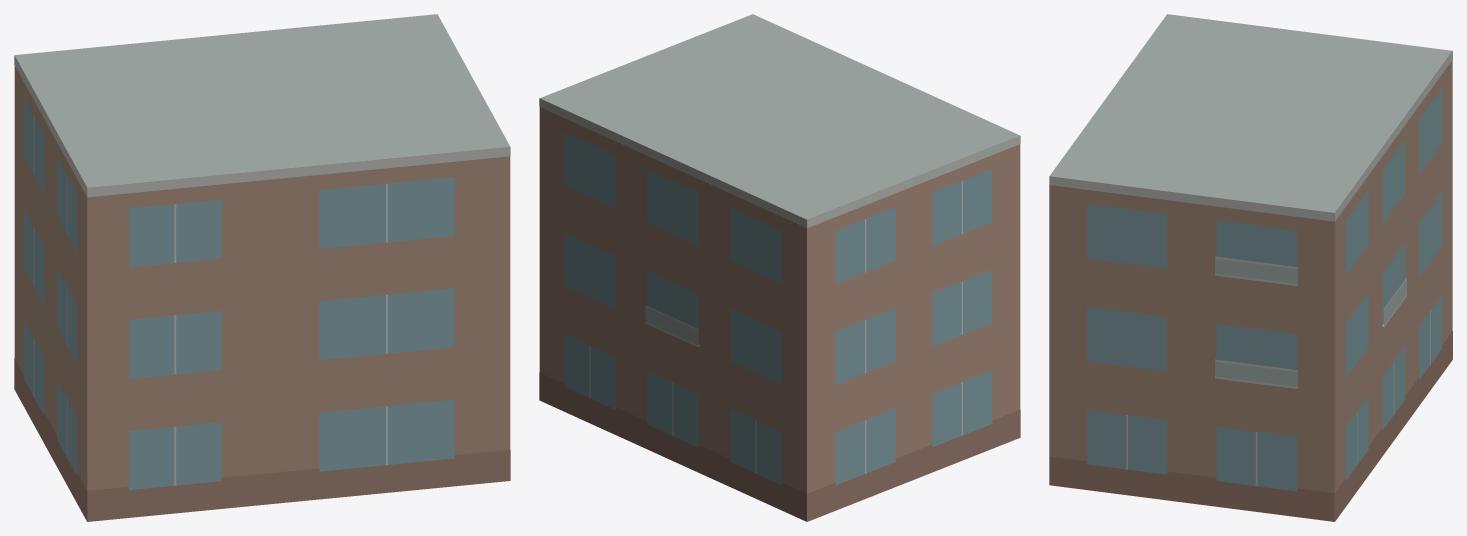
File: survey-upis-32499657.glb
The picture shows the model from 3 angles, left to right: view 1: azimuth 30°, elevation 25°; view 2: azimuth 150°, elevation 25°; view 3: azimuth 270°, elevation 25°; orthographic projection. The views are drawn at different scales.
Parts seen in each view (by area): view 1: survey-upis-32499657.tmp; view 2: survey-upis-32499657.tmp; view 3: survey-upis-32499657.tmp.
Boxes of the visible parts, box(x1,y1,x2,y2) form: survey-upis-32499657.tmp: box(14, 14, 510, 521); survey-upis-32499657.tmp: box(539, 14, 1020, 521); survey-upis-32499657.tmp: box(1049, 14, 1452, 521).
Bounding box in the file's own units: 11.92 × 8.62 × 10.21.
